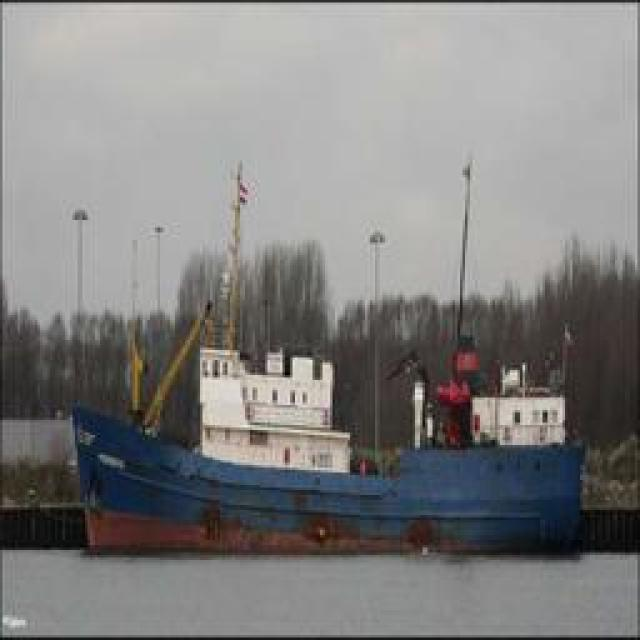CIV_Ship: (72, 245, 602, 555)
